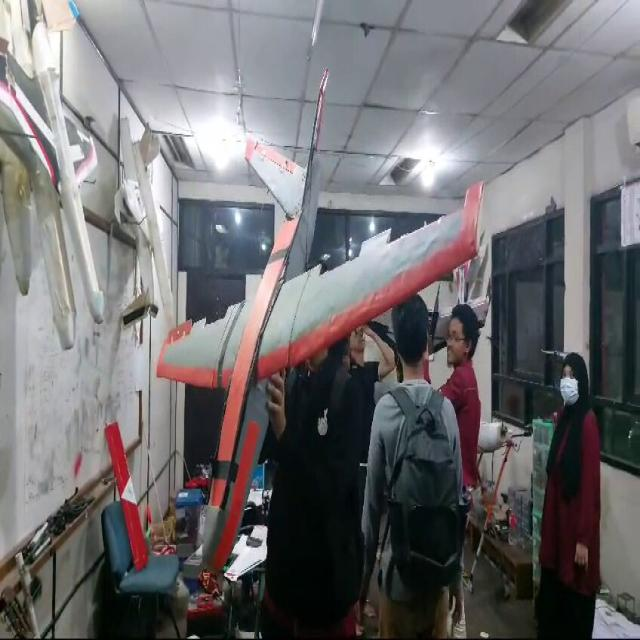plane: (155, 66, 490, 577)
